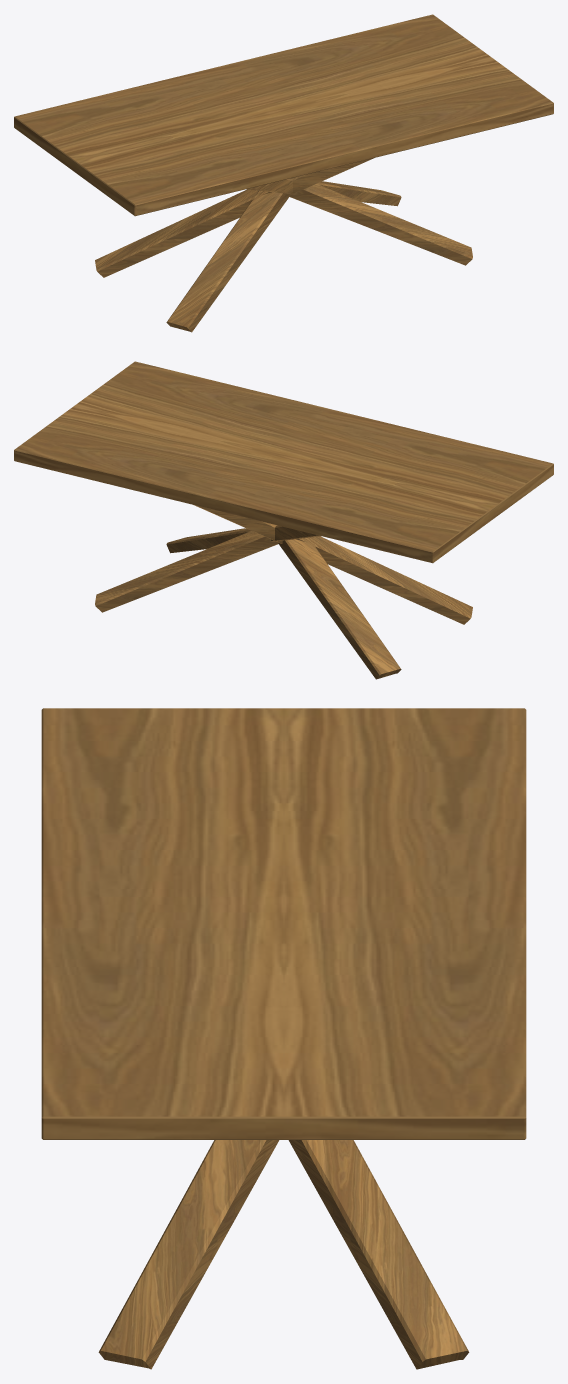
The model's file is rectangular-elm.glb.
3 views of the same model, one above another, from view 1: azimuth 30°, elevation 25°; view 2: azimuth 150°, elevation 25°; view 3: azimuth 270°, elevation 25° (orthographic). The views are drawn at different scales.
Parts seen in each view (by area): view 1: Top_target, Base_target; view 2: Top_target, Base_target; view 3: Top_target, Base_target.
Part boxes in pixels (x1=…): Top_target: x1=14, y1=14, x2=553, y2=216; Base_target: x1=95, y1=158, x2=472, y2=332; Top_target: x1=14, y1=361, x2=553, y2=563; Base_target: x1=95, y1=505, x2=472, y2=679; Top_target: x1=41, y1=708, x2=526, y2=1139; Base_target: x1=98, y1=1140, x2=469, y2=1369.
Bounding box in the file's own units: 2.13 × 0.762 × 1.07.
Materials: 1 (1 with a texture image).
